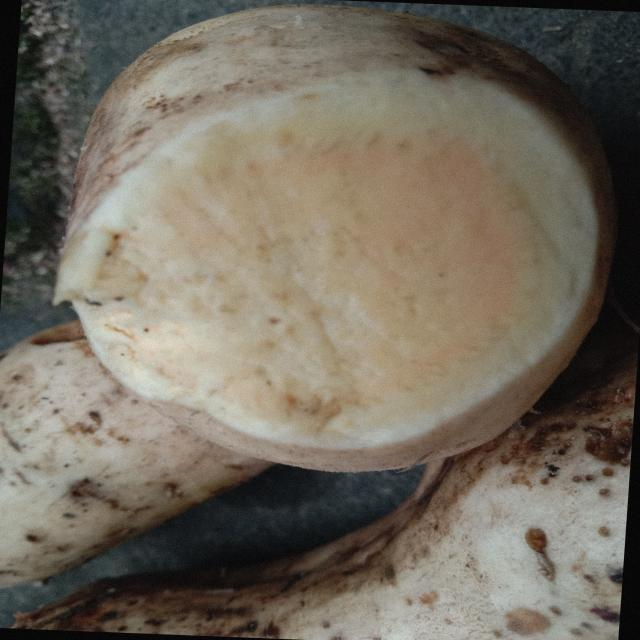Healthy Sweet Potato: (55, 70, 597, 448)
